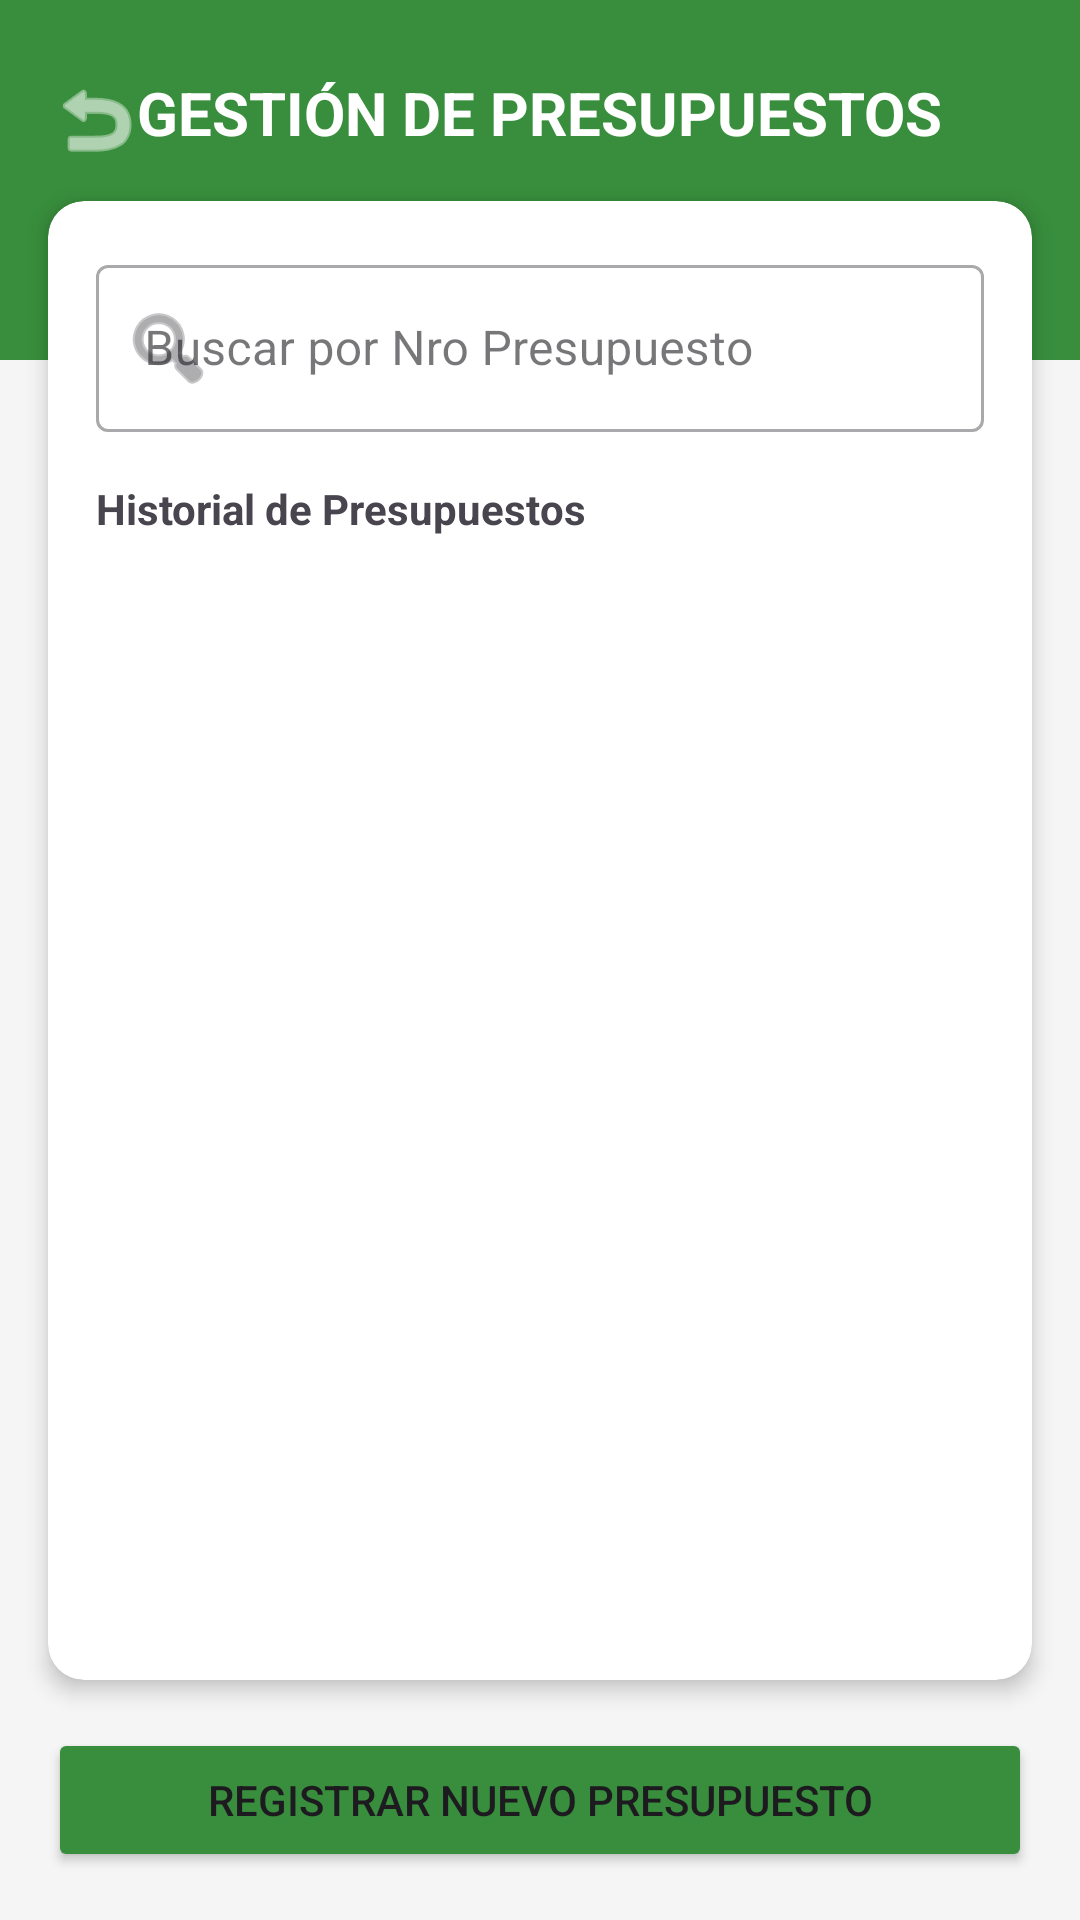

Screen size 1080px x 1920px. Icon name, then its center in pixels as point (x, y):
revert: point (97, 120)
